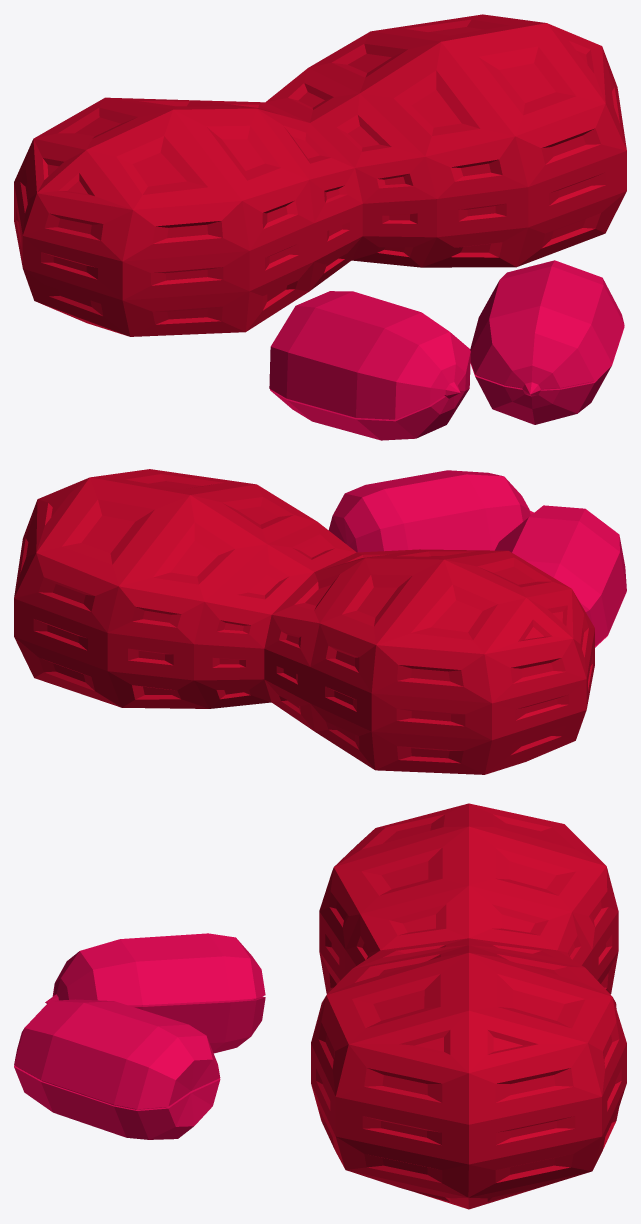
Rendered from Peanut_01.fbx.
The picture shows the model from 3 angles, top to bottom: view 1: azimuth 30°, elevation 25°; view 2: azimuth 150°, elevation 25°; view 3: azimuth 270°, elevation 25°; orthographic projection. The views are drawn at different scales.
Parts seen in each view (by area): view 1: Peanut_01; view 2: Peanut_01; view 3: Peanut_01.
Boxes of the visible parts, x1,y1,x2,y2 form: Peanut_01: [14, 14, 626, 440]; Peanut_01: [14, 469, 626, 774]; Peanut_01: [14, 803, 626, 1209].
Size of the model in its own units: 5.31 by 1.81 by 4.81.
